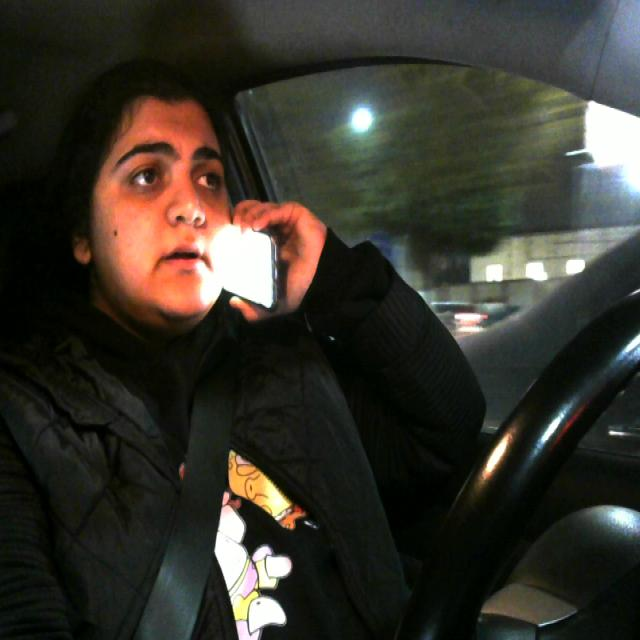mobile use: (210, 207, 282, 328)
